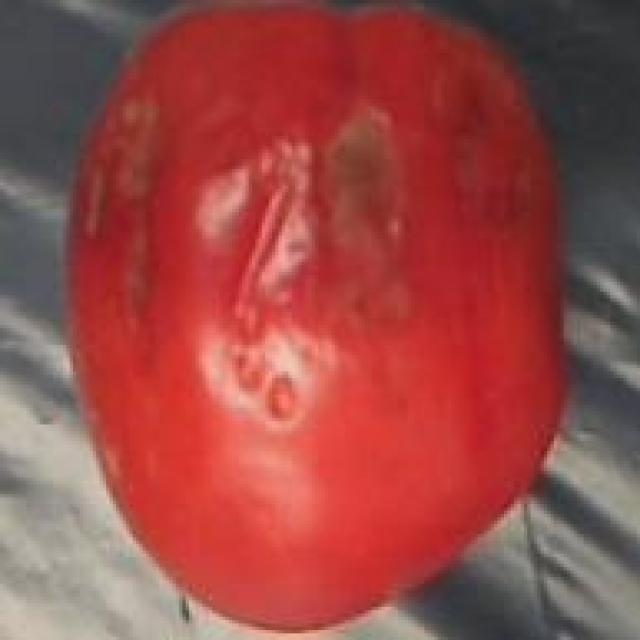overripe tomato: (66, 0, 577, 640)
